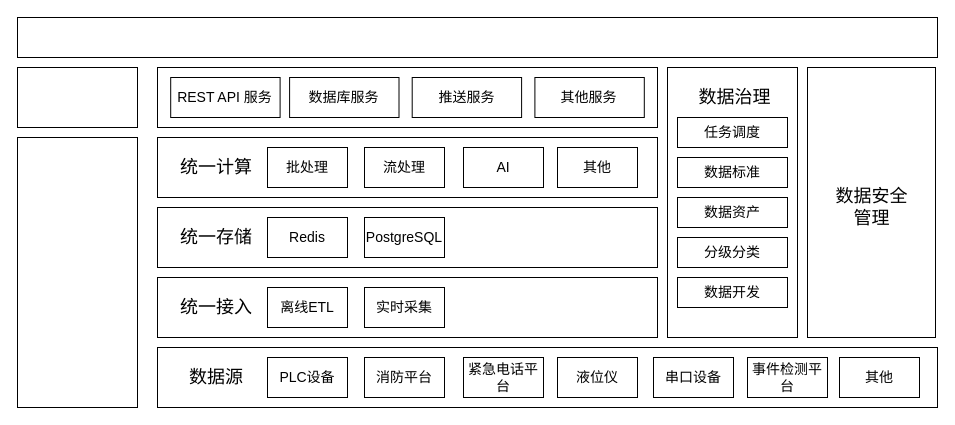
Image size: 955x425. Some labels were removed from this diagram. The centre of each missing label's shape, as x and y in pixels:
"上层应用/外部应用" belongs at (477,37).
"大数据 基础平台" belongs at (77,272).
"数据服务中心" belongs at (77,97).
